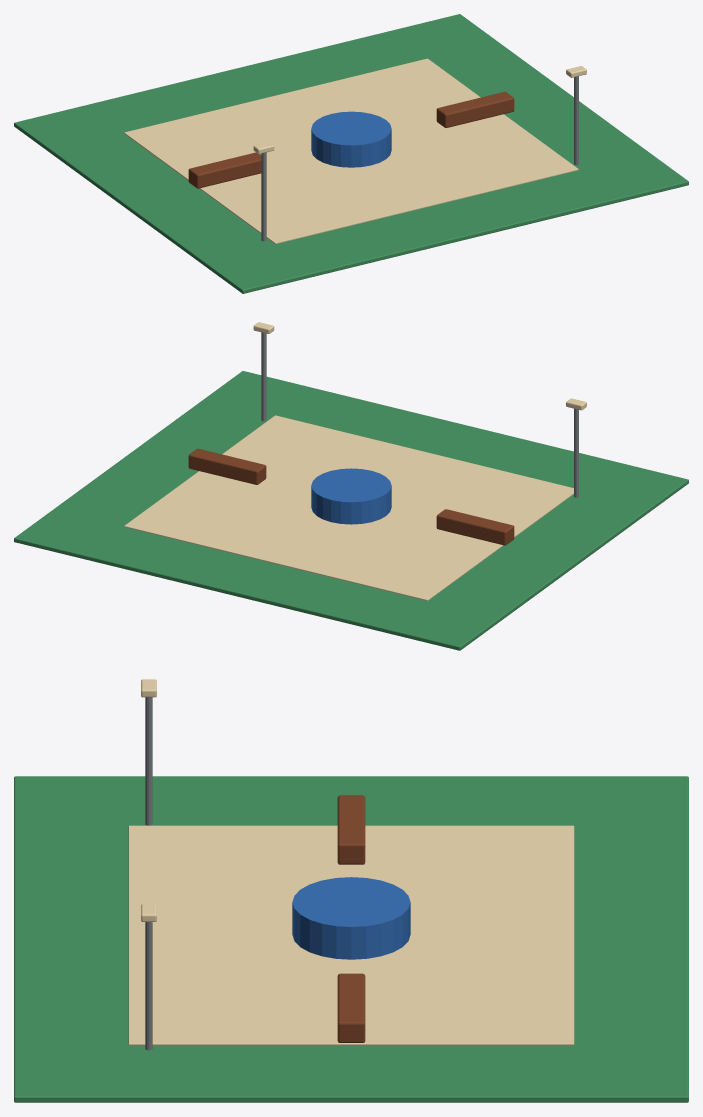
The model's file is neighborhood_courtyard_a.glb.
3 views of the same model, one above another, from view 1: azimuth 30°, elevation 25°; view 2: azimuth 150°, elevation 25°; view 3: azimuth 270°, elevation 25° (orthographic). The views are drawn at different scales.
Visible parts, largest first — view 1: SET_Ground, SET_PlazaInlay, PROP_Fountain, PROP_Bench_5, PROP_Bench_-5, SET_LampPost_0, SET_LampPost_1; view 2: SET_Ground, SET_PlazaInlay, PROP_Fountain, PROP_Bench_5, PROP_Bench_-5, SET_LampPost_1; view 3: SET_Ground, SET_PlazaInlay, PROP_Fountain, PROP_Bench_-5, PROP_Bench_5, SET_LampPost_0, SET_LampPost_1.
Part boxes in pixels (x1,y1,x2,y2): SET_Ground: (14, 14, 688, 293); SET_PlazaInlay: (124, 58, 578, 244); PROP_Fountain: (311, 111, 391, 167); PROP_Bench_5: (436, 91, 514, 127); PROP_Bench_-5: (188, 152, 261, 188); SET_LampPost_0: (261, 152, 266, 241); SET_LampPost_1: (574, 76, 578, 165); SET_Ground: (14, 371, 688, 650); SET_PlazaInlay: (124, 415, 573, 600); PROP_Fountain: (311, 468, 391, 524); PROP_Bench_5: (188, 448, 266, 484); PROP_Bench_-5: (436, 509, 514, 545); SET_LampPost_1: (261, 332, 266, 421); SET_Ground: (14, 776, 688, 1102); SET_PlazaInlay: (128, 825, 574, 1045); PROP_Fountain: (292, 877, 410, 959); PROP_Bench_-5: (337, 795, 365, 864); PROP_Bench_5: (337, 973, 365, 1042); SET_LampPost_0: (145, 697, 152, 825); SET_LampPost_1: (145, 922, 152, 1050).
Size of what is drawn, in the model's own units: 18 by 3.81 by 16.
